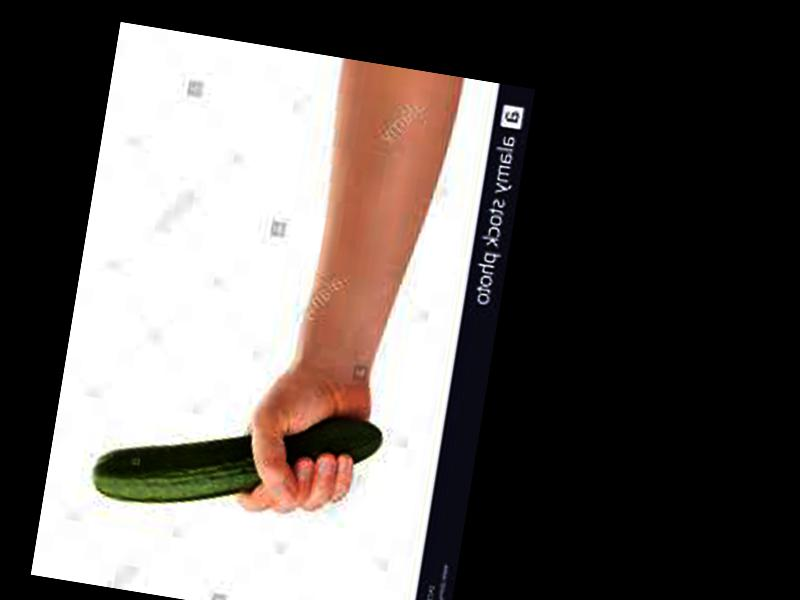Cucumber: (90, 382, 383, 541)
